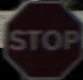Stop: (7, 6, 78, 67)
